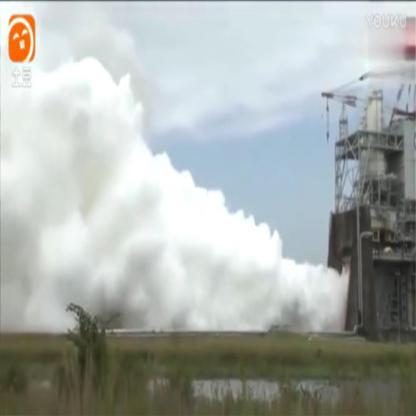smoke: (1, 84, 139, 332), (240, 218, 350, 334), (140, 152, 188, 334), (188, 180, 238, 333), (43, 56, 116, 86)
